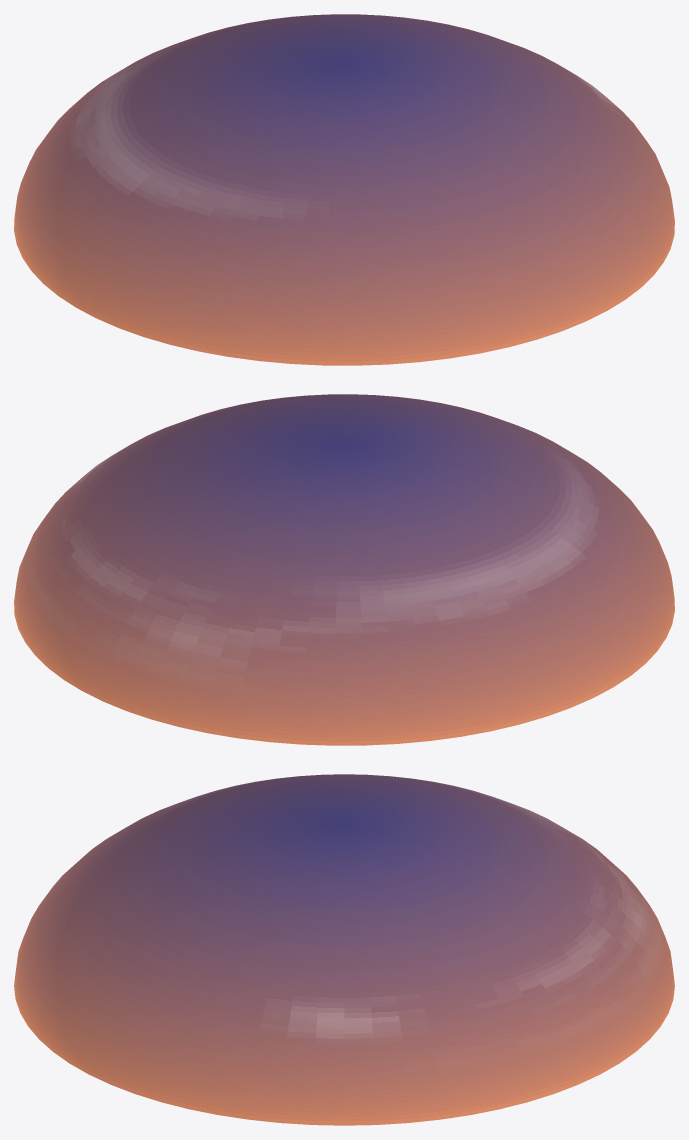
Rendered from env-sky-s19-moscone-x.glb.
The picture shows the model from 3 angles, top to bottom: view 1: azimuth 30°, elevation 25°; view 2: azimuth 150°, elevation 25°; view 3: azimuth 270°, elevation 25°; orthographic projection.
Parts seen in each view (by area): view 1: Sky; view 2: Sky; view 3: Sky.
Boxes of the visible parts, x1,y1,x2,y2 form: Sky: (14, 14, 674, 365); Sky: (14, 394, 674, 745); Sky: (14, 774, 674, 1125).
Size of the model in its own units: 1200 by 320 by 1200.
Materials: 2 (1 with a texture image).
